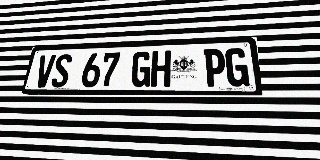6: (81, 53, 103, 87)
7: (99, 52, 120, 87)
G: (225, 48, 250, 87), (130, 51, 152, 87)
H: (150, 50, 171, 87)
P: (204, 49, 226, 87)
S: (50, 54, 73, 87)
V: (34, 54, 56, 88)
